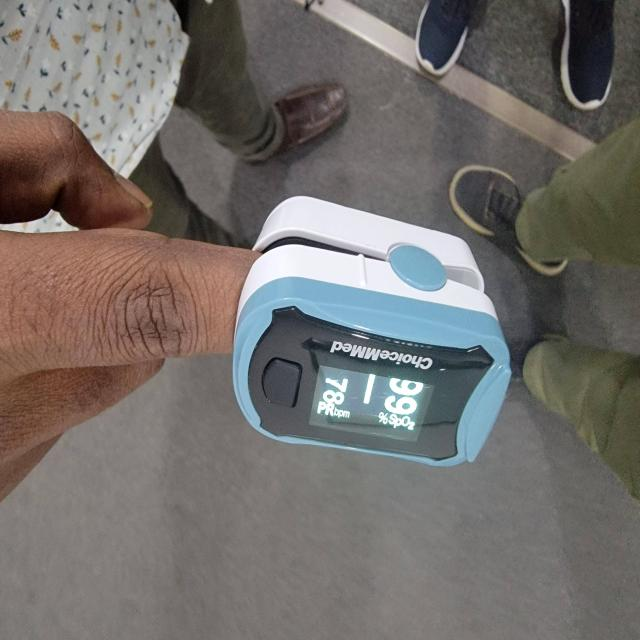spo2: (231, 197, 512, 470)
